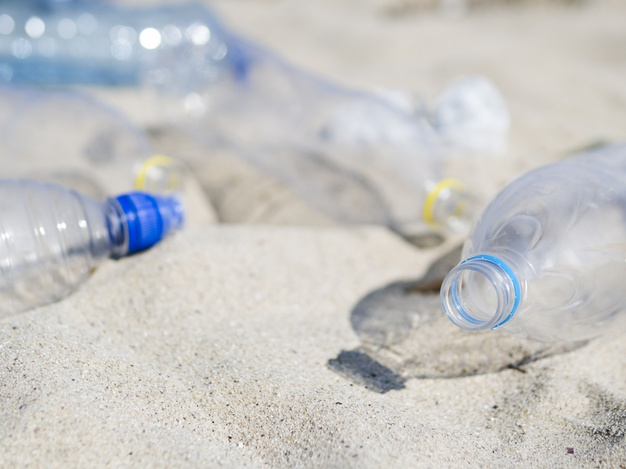plastic_bottle: (1, 98, 329, 354), (398, 95, 626, 385), (1, 1, 278, 133)
